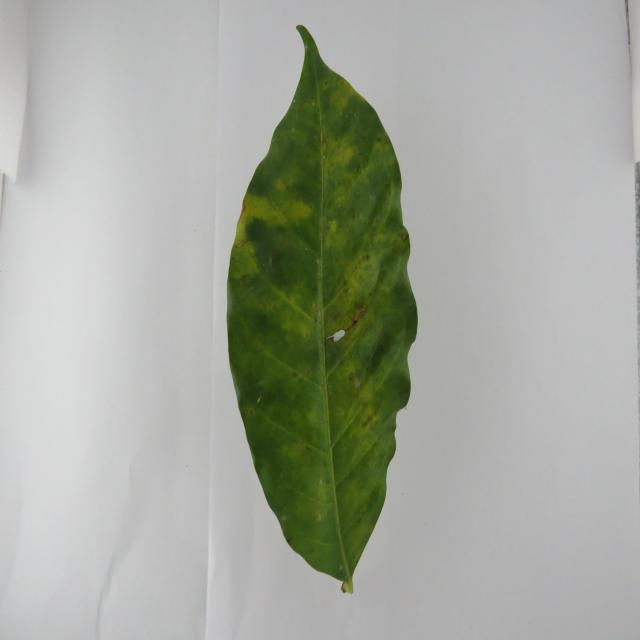DeficienciaNutricional-Calcio: (228, 25, 418, 593)
